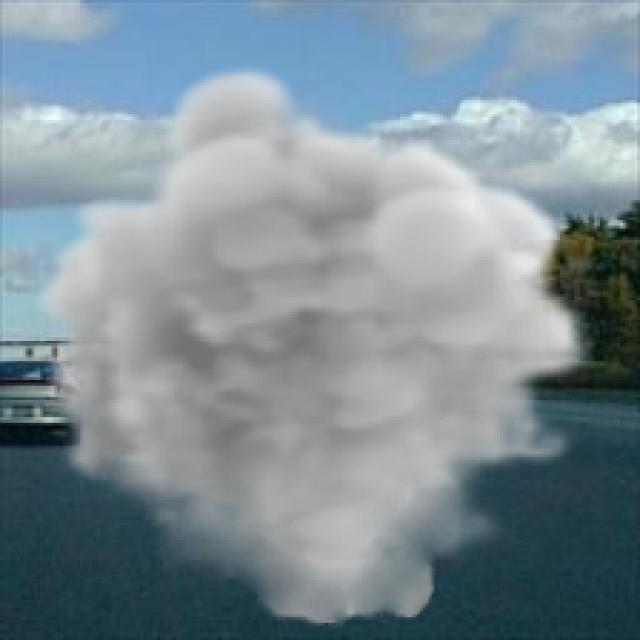smoke: (34, 60, 594, 629)
